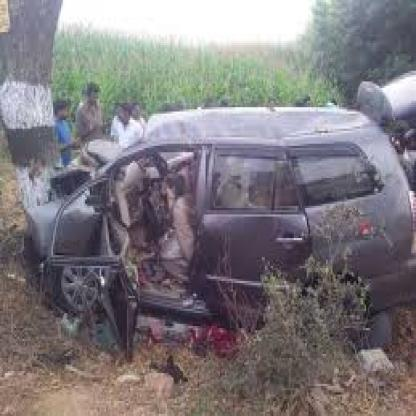accident: (24, 98, 416, 348)
